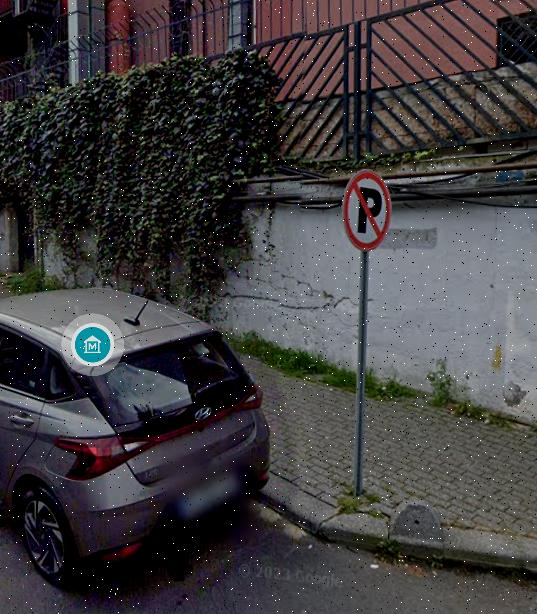nopark: (346, 170, 386, 243)
